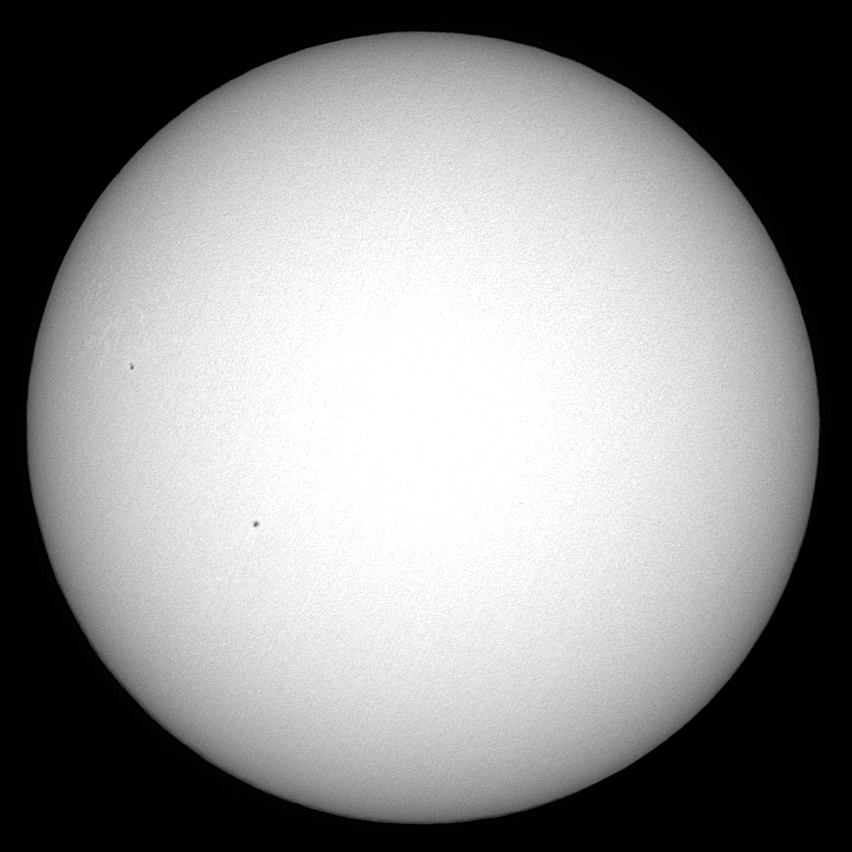sunspot: (250, 518, 266, 532), (127, 361, 137, 374)
